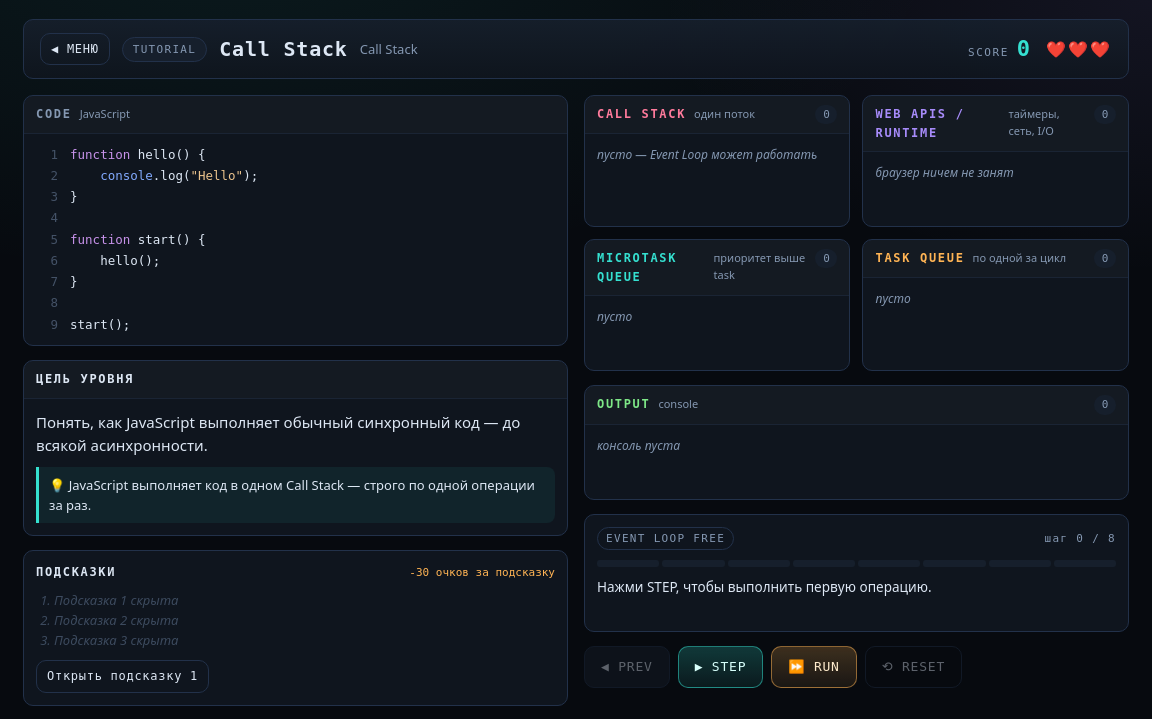
Test: экран уровня › вопрос во время симуляции › симуляция упирается в вопрос и объясняет, почему стоит
Click the button "▶ STEP": {"x": 720, "y": 667} [678,646,763,688]
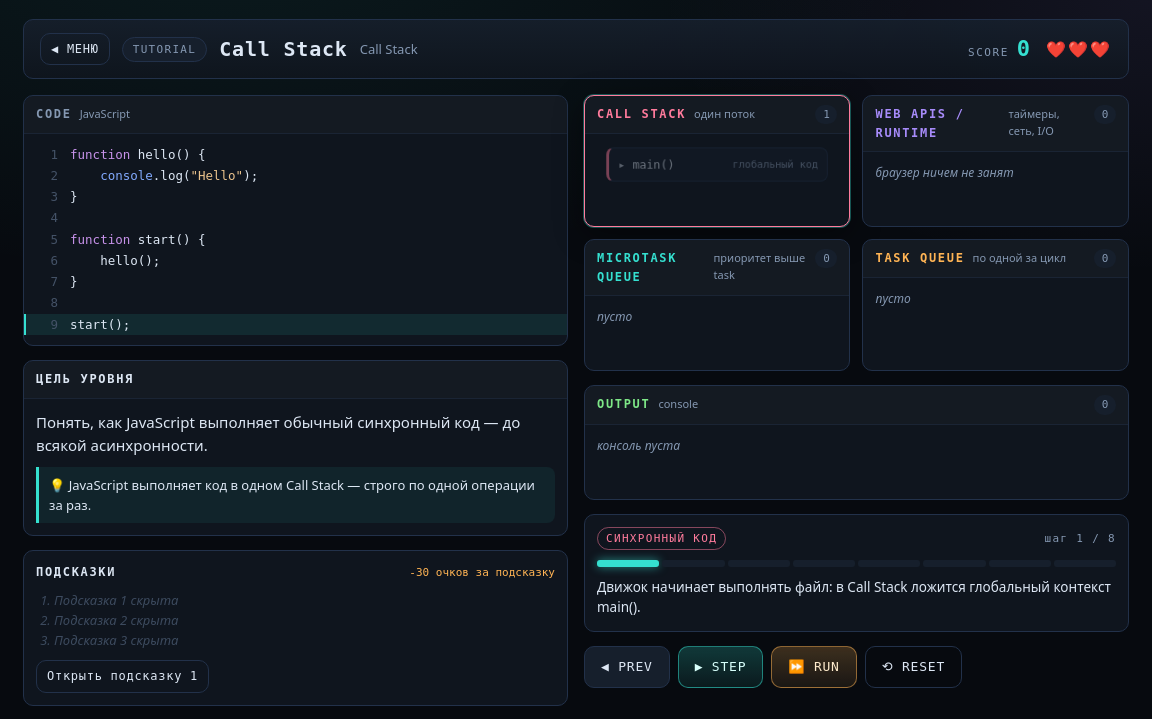
Click the button "▶ STEP": {"x": 720, "y": 667} [678,646,763,688]
(page scrolled)
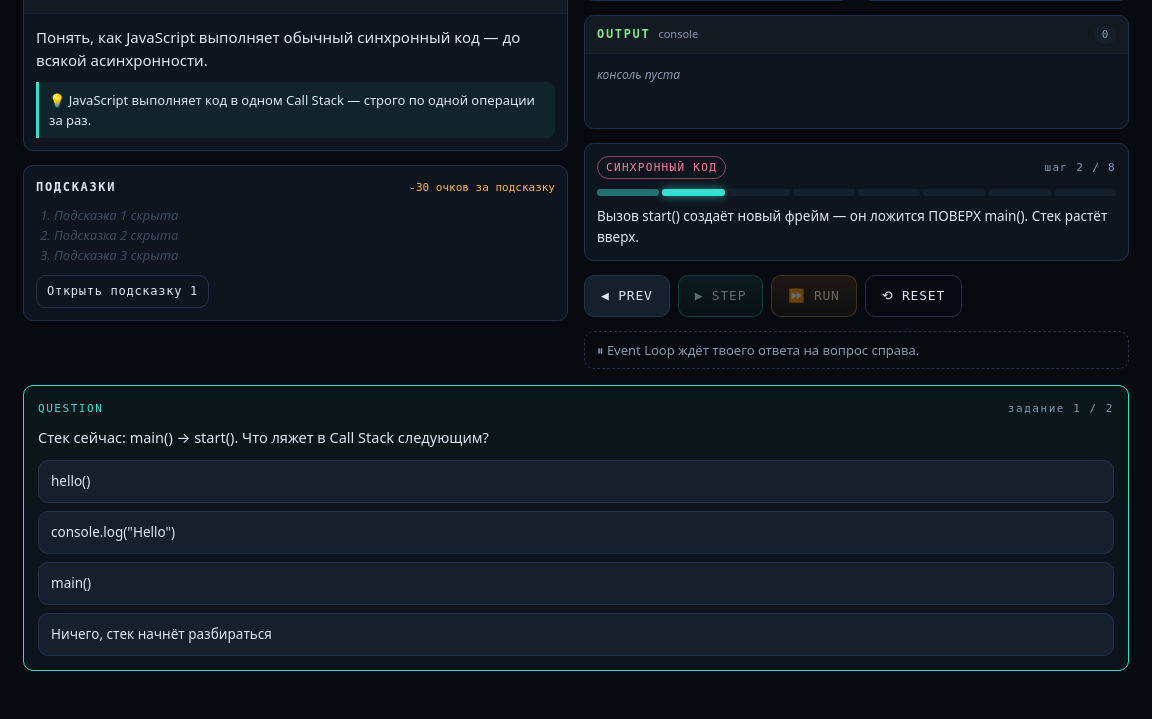
Expected: the button "▶ STEP" is disabled, [678,275,763,317]
Expected: the button "⏩ RUN" is disabled, [771,275,857,317]
Expected: the text "⏸ Event Loop ждёт твоего ответа на вопрос справа." is shown, [584,331,1129,369]
